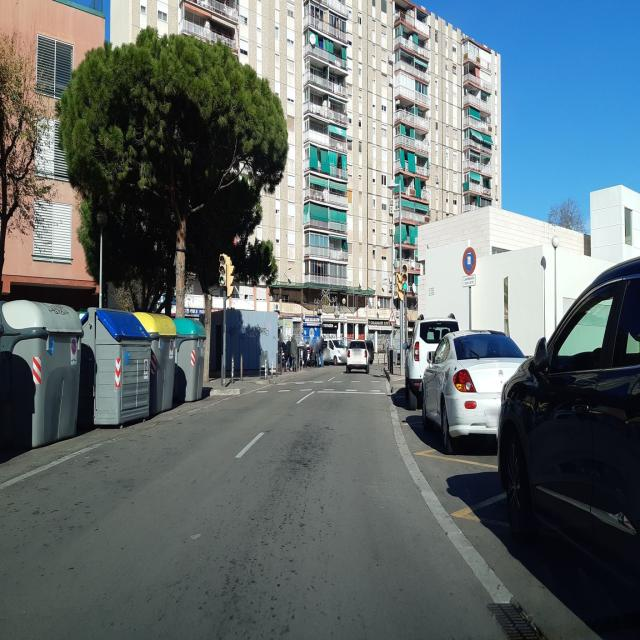forb_stopping: (462, 247, 477, 275), (71, 338, 77, 354)
